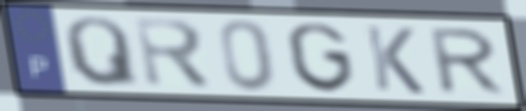0: (216, 17, 280, 94)
G: (283, 20, 359, 95)
K: (362, 23, 428, 97)
Q: (61, 14, 144, 89)
R: (131, 15, 216, 92), (428, 26, 510, 97)
